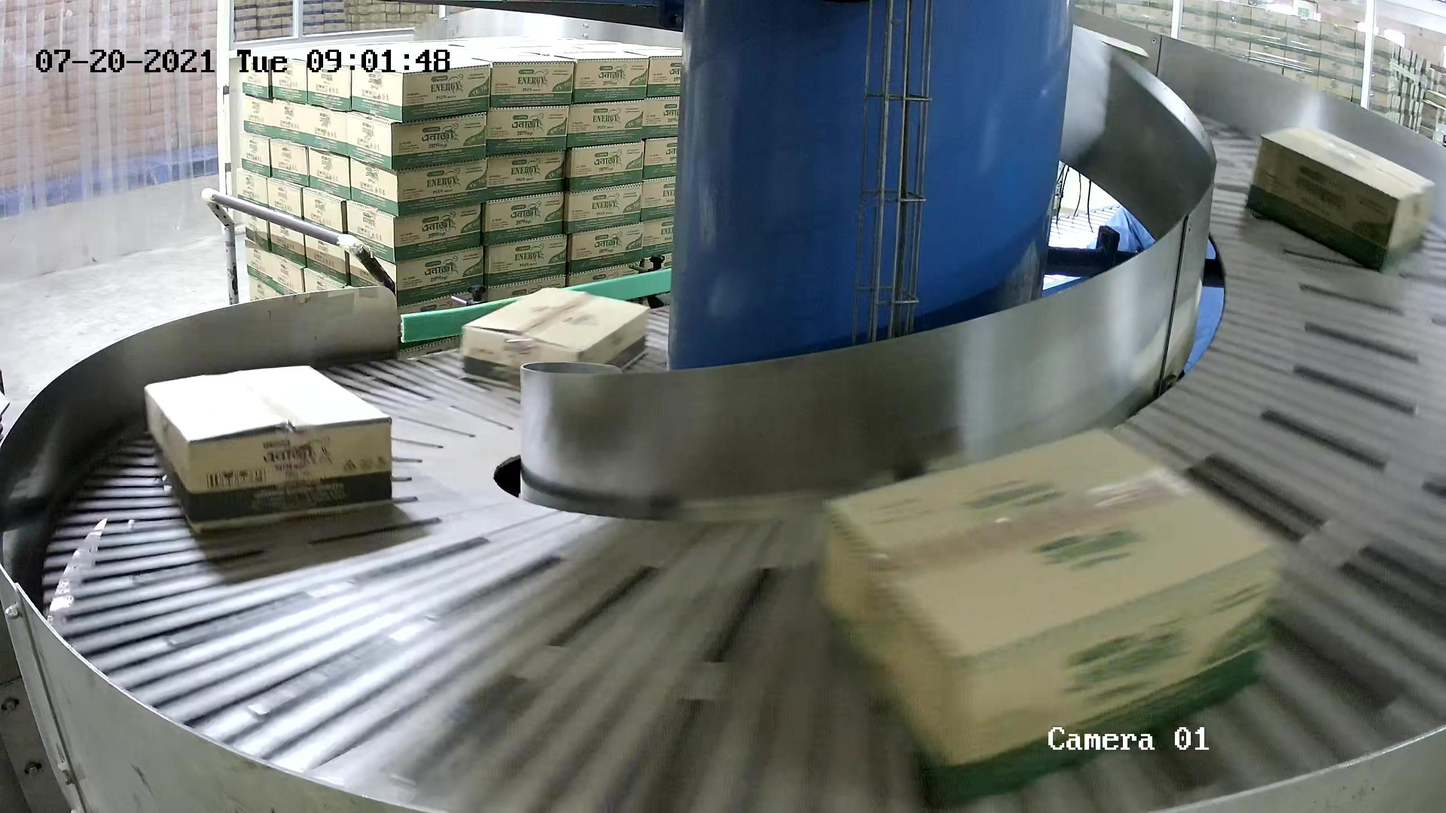Box: (812, 422, 1290, 807), (142, 363, 395, 532), (1245, 123, 1438, 274), (461, 285, 652, 393)
